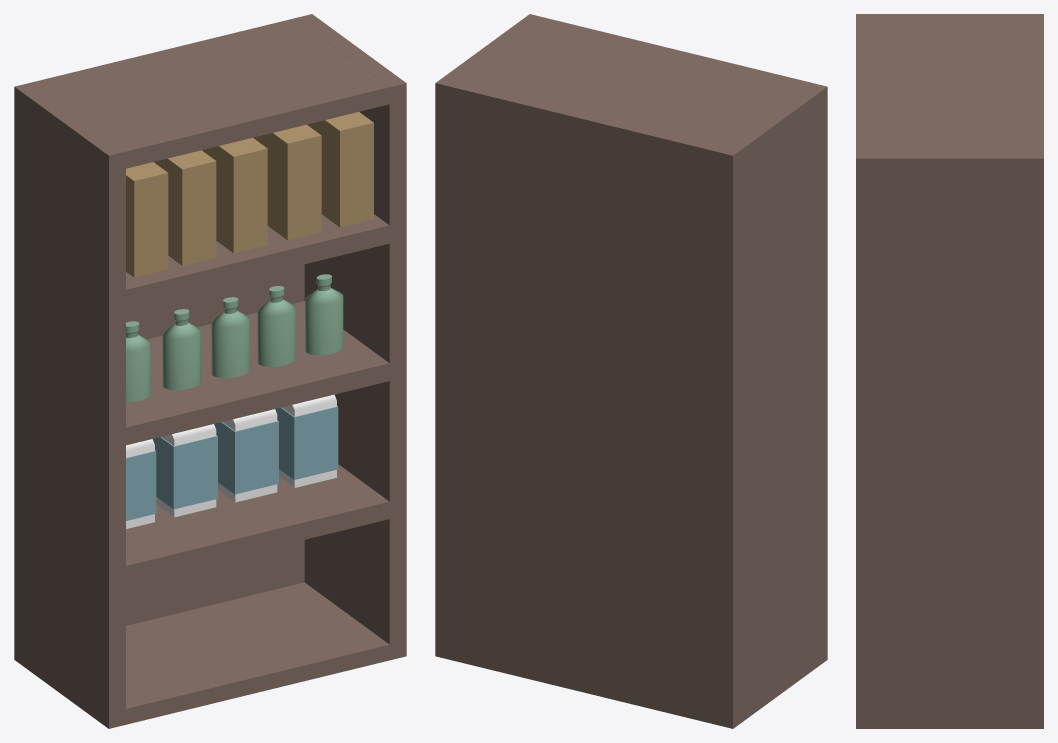
Rendered from Full_Shelf_2.fbx.
3 views of the same model, side by side, from view 1: azimuth 30°, elevation 25°; view 2: azimuth 150°, elevation 25°; view 3: azimuth 270°, elevation 25° (orthographic).
Visible parts, largest first — view 1: Shelf2, Cereal10, Cereal11, Cereal12, Cereal13, Cereal14, MilkCover12, MilkCover11, MilkCover10, Detergent12, Detergent11, Detergent14 (+7 smaller); view 2: Shelf2; view 3: Shelf2.
Part boxes in pixels (x1=…): Shelf2: x1=14, y1=14, x2=406, y2=728; Cereal10: x1=253, y1=124, x2=321, y2=240; Cereal11: x1=307, y1=112, x2=373, y2=227; Cereal12: x1=202, y1=138, x2=267, y2=253; Cereal13: x1=154, y1=150, x2=216, y2=265; Cereal14: x1=126, y1=162, x2=168, y2=277; MilkCover12: x1=152, y1=435, x2=217, y2=509; MilkCover11: x1=214, y1=420, x2=278, y2=494; MilkCover10: x1=275, y1=406, x2=338, y2=479; Detergent12: x1=211, y1=297, x2=249, y2=378; Detergent11: x1=162, y1=309, x2=200, y2=390; Detergent14: x1=305, y1=274, x2=343, y2=355; Shelf2: x1=435, y1=14, x2=827, y2=728; Shelf2: x1=856, y1=14, x2=1043, y2=728.
Size of the model in its own units: 18.05 by 33.2 by 9.91.
